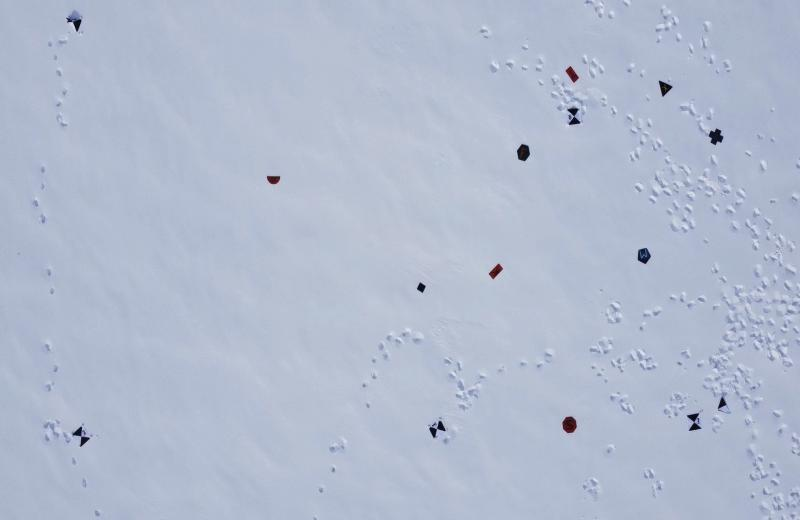Cross: (708, 128, 724, 147)
Hexagon: (516, 144, 532, 162)
Octagon: (561, 414, 579, 435)
Pentagon: (637, 246, 652, 264)
Rectangle: (564, 66, 580, 83), (488, 263, 504, 279)
Semi Circle: (266, 173, 282, 186)
Square: (416, 281, 428, 294)
Triangle: (658, 79, 674, 98)
